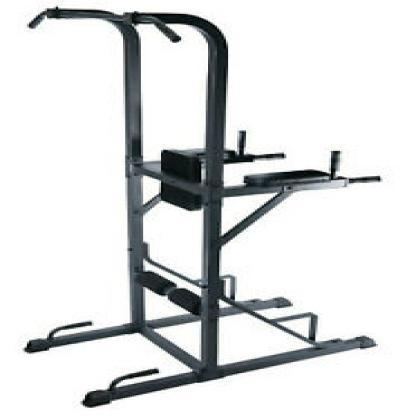chinning dipping: (28, 3, 381, 406)
